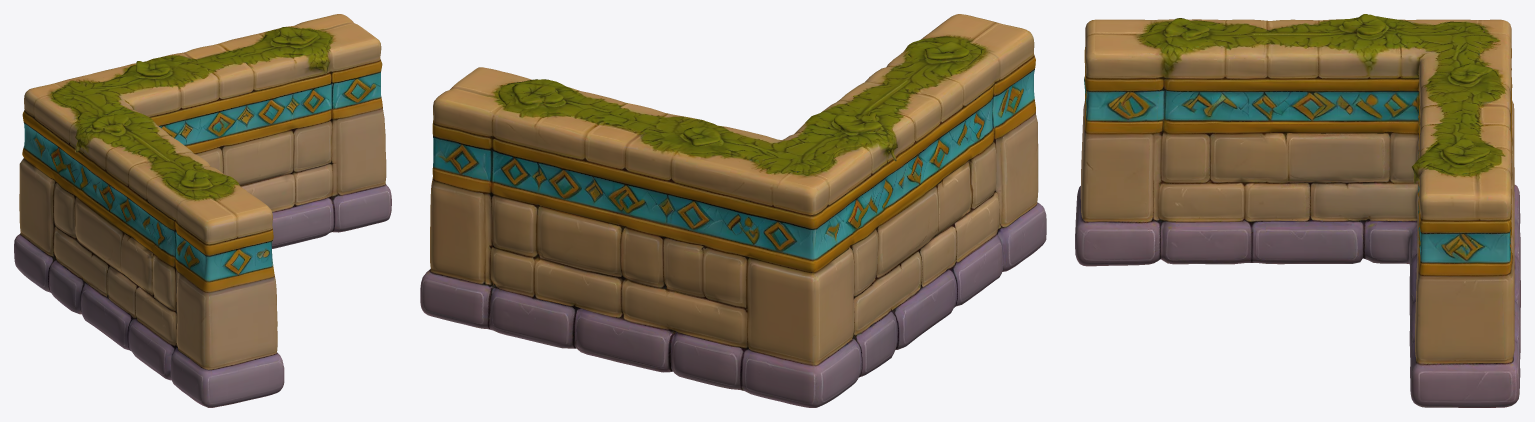
File: 13-garden-corner-wall.glb
3 renders of one model, left to right at view 1: azimuth 30°, elevation 25°; view 2: azimuth 150°, elevation 25°; view 3: azimuth 270°, elevation 25°, orthographic. The views are drawn at different scales.
Parts seen in each view (by area): view 1: tripo_node_8fe4370b; view 2: tripo_node_8fe4370b; view 3: tripo_node_8fe4370b.
Boxes of the visible parts, x1=… form: tripo_node_8fe4370b: x1=14, y1=14, x2=391, y2=407; tripo_node_8fe4370b: x1=420, y1=14, x2=1046, y2=407; tripo_node_8fe4370b: x1=1075, y1=14, x2=1520, y2=407.
Bounding box in the file's own units: 1.11 × 0.6 × 1.1.
1 material, 1 textured.
